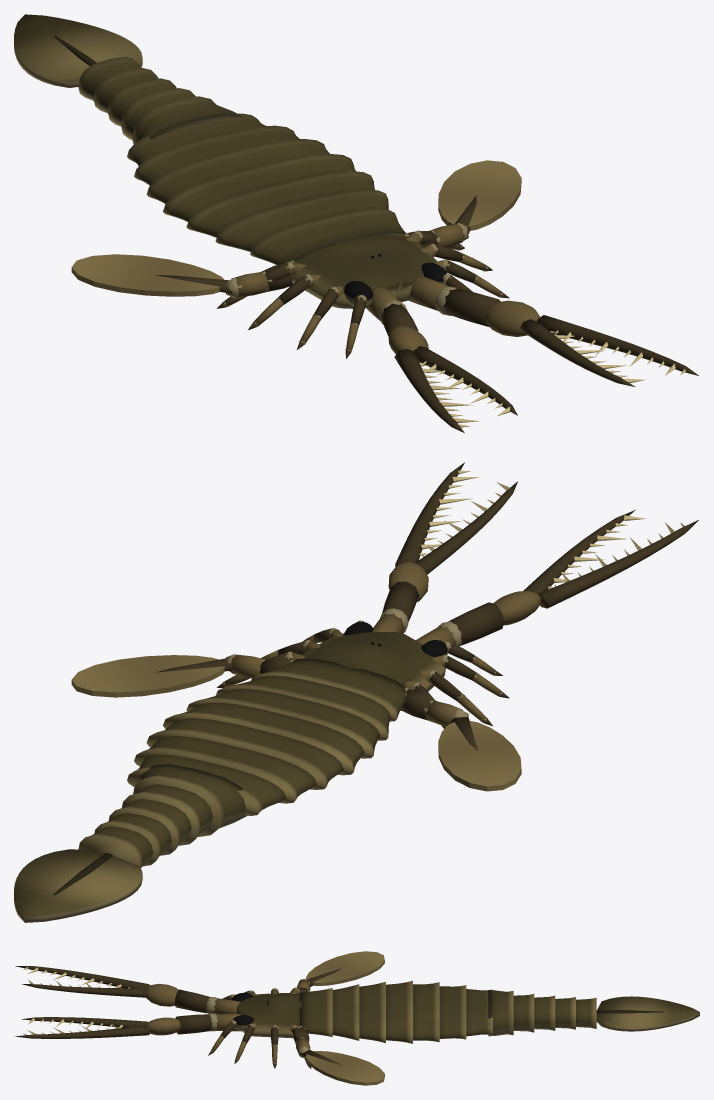
The model's file is PterygotusAnglicus.fbx.
3 views of the same model, one above another, from view 1: azimuth 30°, elevation 25°; view 2: azimuth 150°, elevation 25°; view 3: azimuth 270°, elevation 25° (orthographic). The views are drawn at different scales.
Visible parts, largest first — view 1: PterygotusAnglicus; view 2: PterygotusAnglicus; view 3: PterygotusAnglicus.
Part boxes in pixels (bbox=[...]): PterygotusAnglicus: bbox=[14, 14, 698, 433]; PterygotusAnglicus: bbox=[14, 462, 698, 922]; PterygotusAnglicus: bbox=[15, 951, 699, 1085].
Bounding box in the file's own units: 1.26 × 0.1609 × 2.79.
